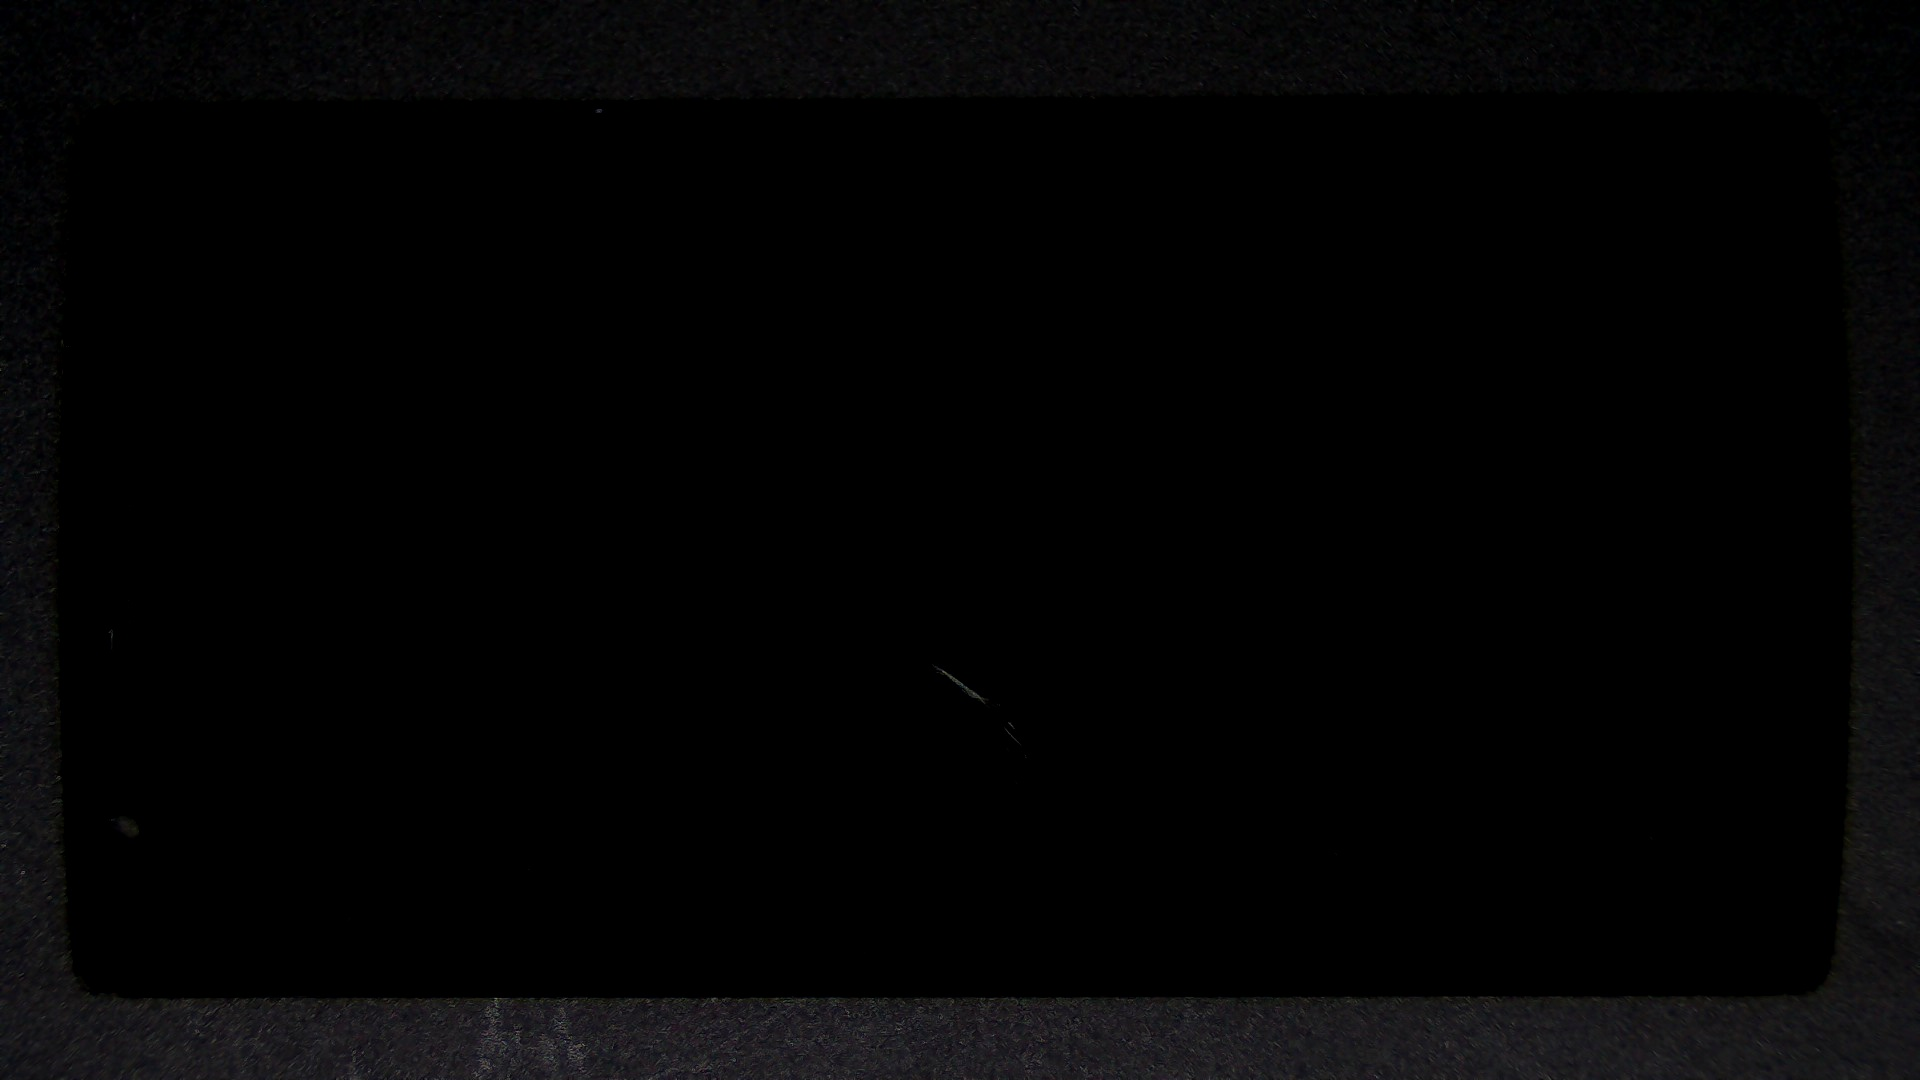oil: (465, 330, 1395, 992)
